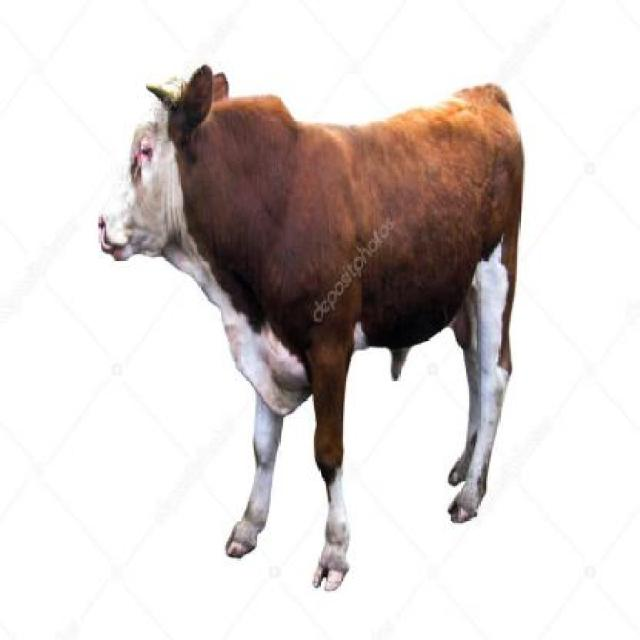Cow: (94, 65, 526, 597)
